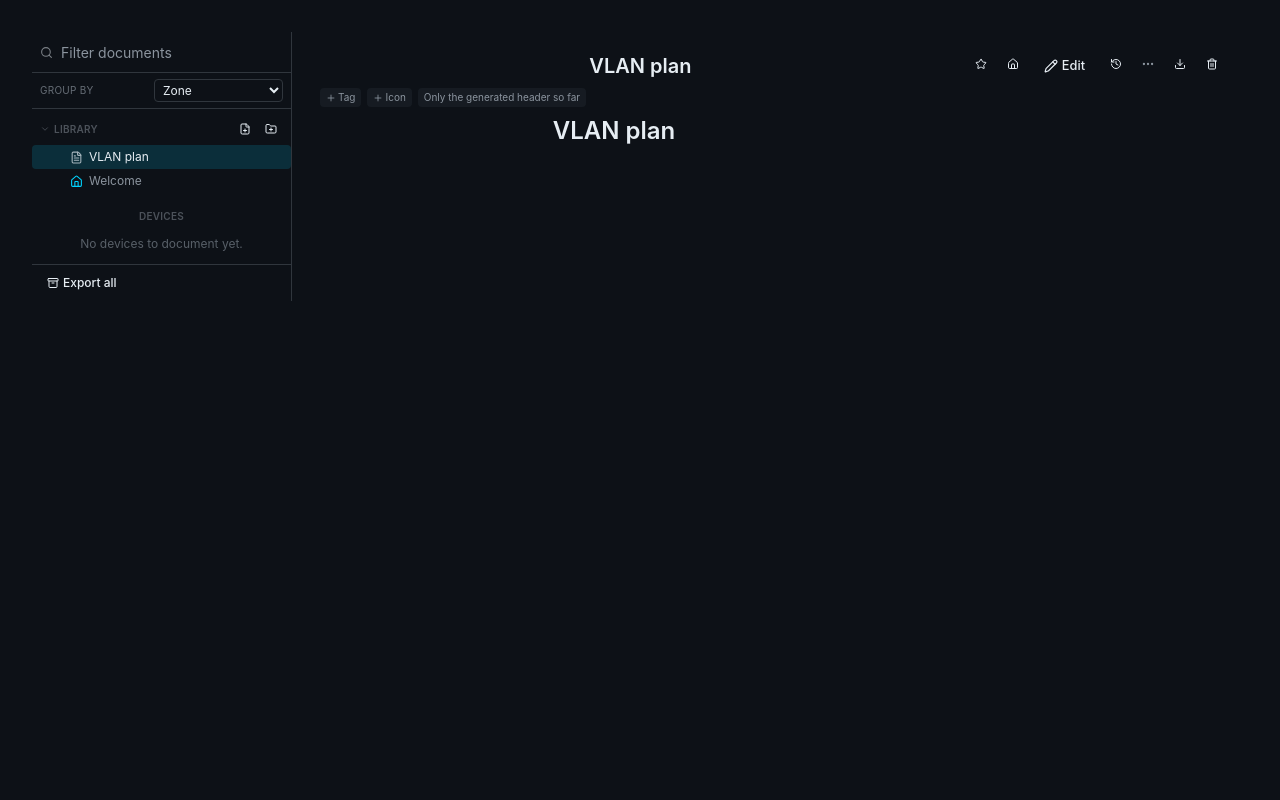
DocumentationView — homepage › asks before replacing the current homepage, and only sets it on confirm
The width and height of the screenshot is (1280, 800).
Click the button named "Set as homepage" at (1013,64), box [1001,52,1025,76]
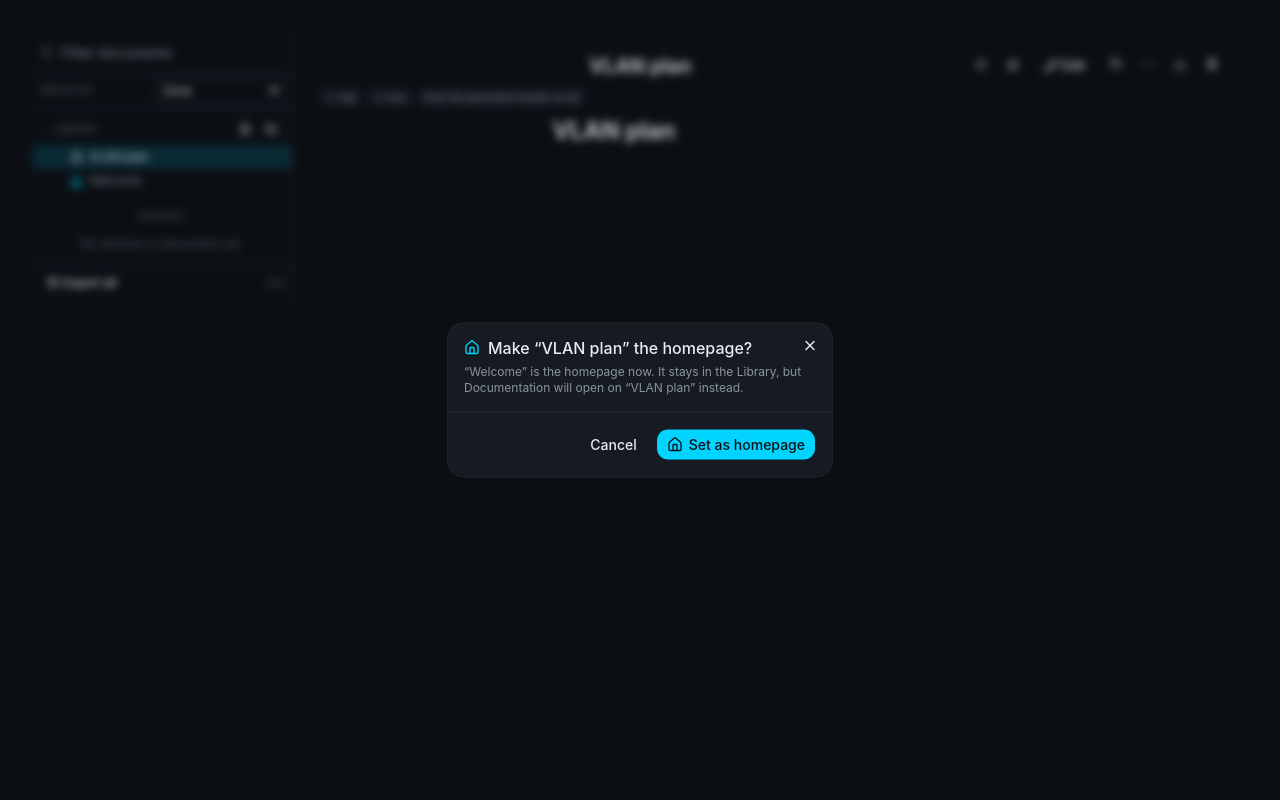
expect the dialog shows "“Welcome” is the homepage now": met, box [448,324,832,476]
Click the button "Set as homepage" at (736,444), box [656,428,816,460]
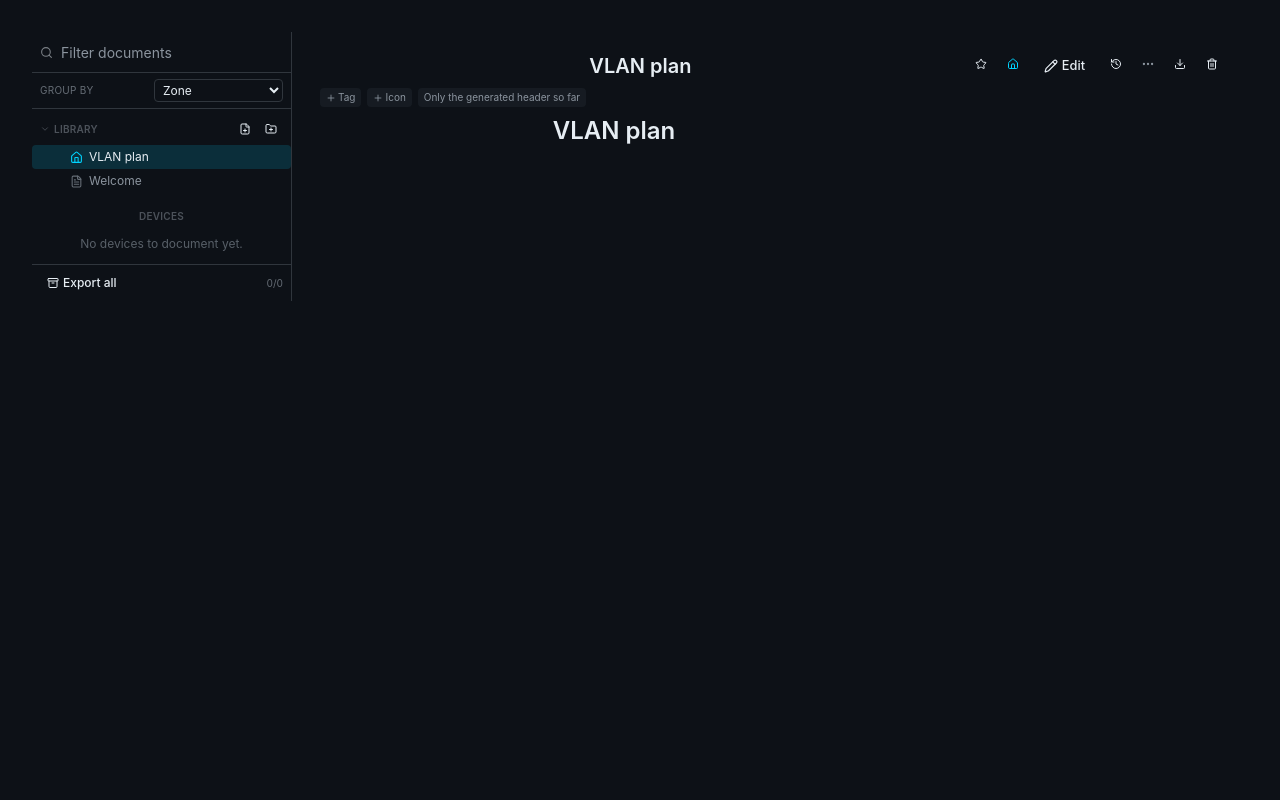
expect the dialog is gone: met
